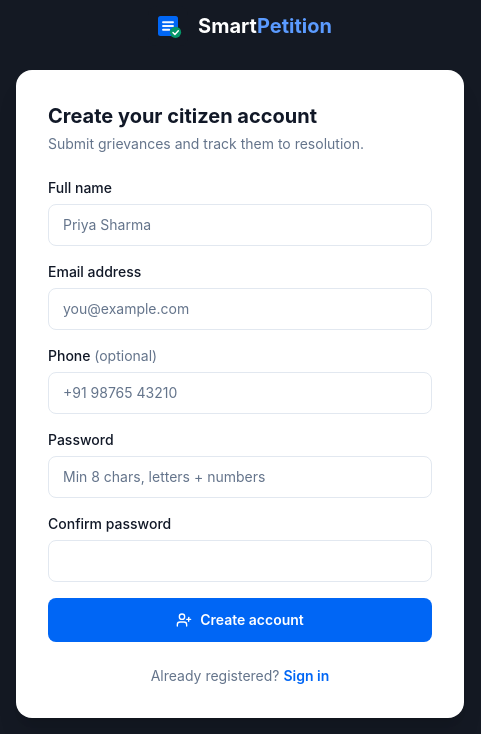
Test: registration form validation (client-side, zod) › blocks submit and shows all field errors when empty
Click the button "Create account": (240, 620) [48,598,432,642]
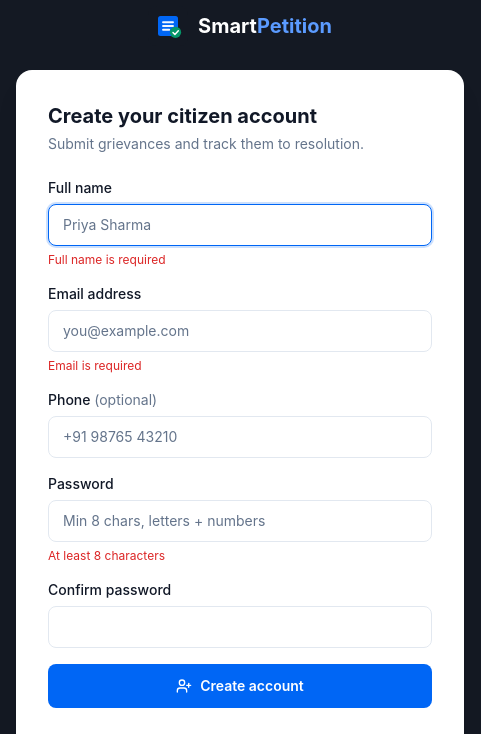
expect the text "Full name is required" is shown: met, box [48,252,166,267]
expect the text "Email is required" is shown: met, box [48,358,142,373]
expect the text "At least 8 characters" is shown: met, box [48,548,165,563]
